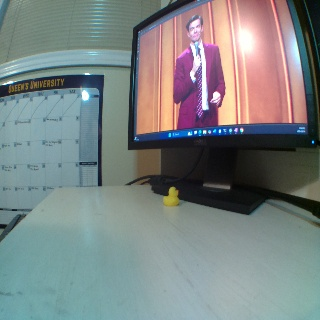duck_regular: (162, 185, 178, 205)
